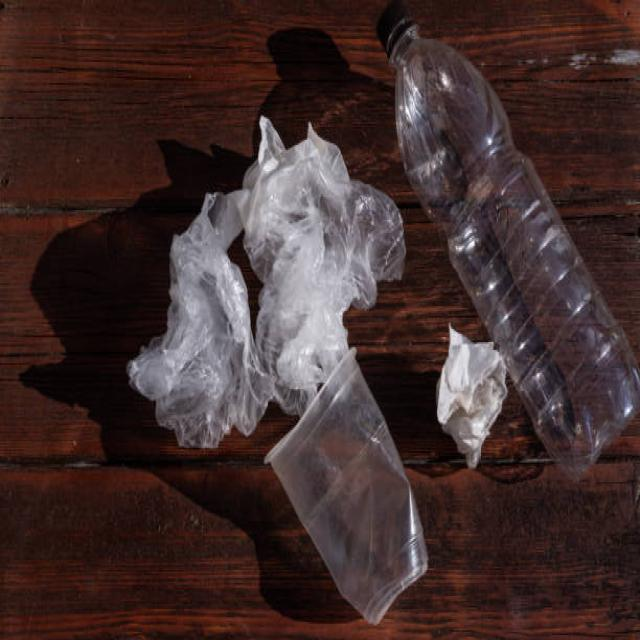plastic: (156, 22, 608, 528)
